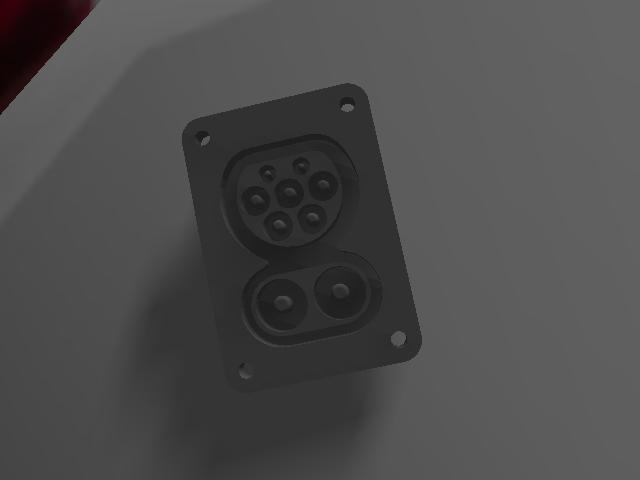EV-socket: (177, 79, 428, 402)
